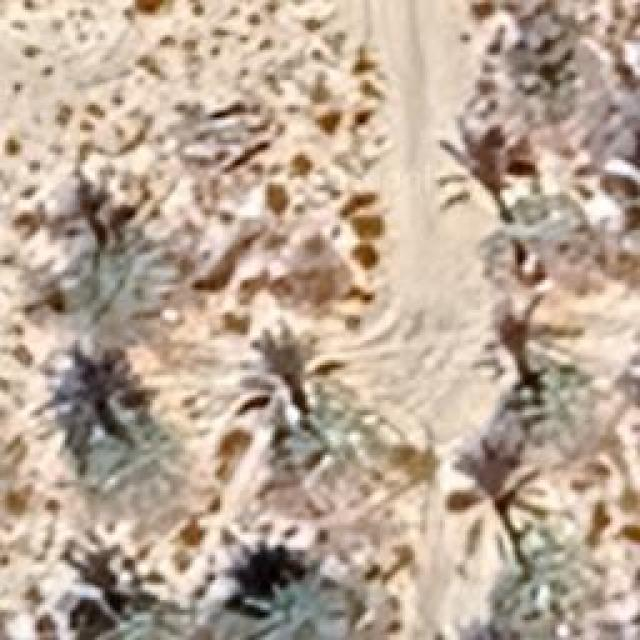PalmTree: (105, 83, 482, 173), (230, 325, 345, 433), (442, 460, 548, 570), (482, 17, 580, 125), (87, 392, 185, 492), (68, 225, 174, 313), (520, 362, 605, 450), (232, 578, 342, 638), (103, 103, 114, 598), (444, 592, 556, 640)
